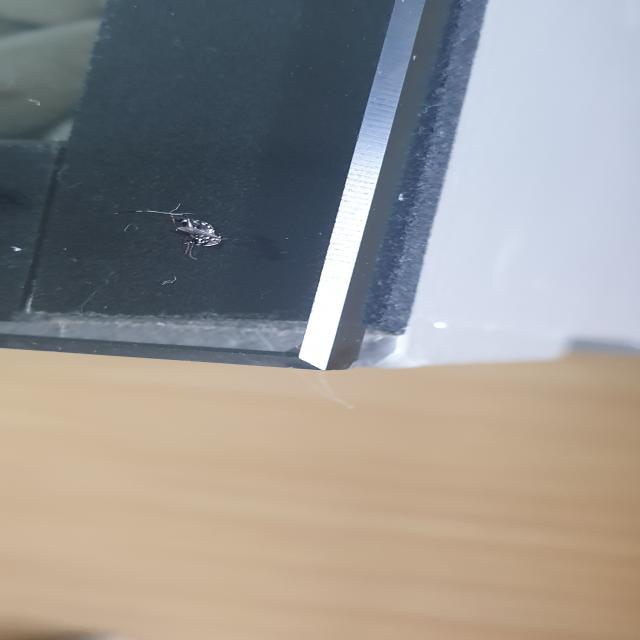albopictus: (110, 198, 243, 266)
